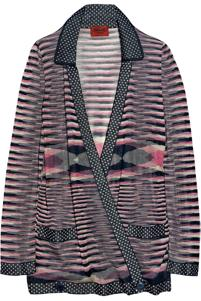C_jacket: (1, 1, 201, 295)
